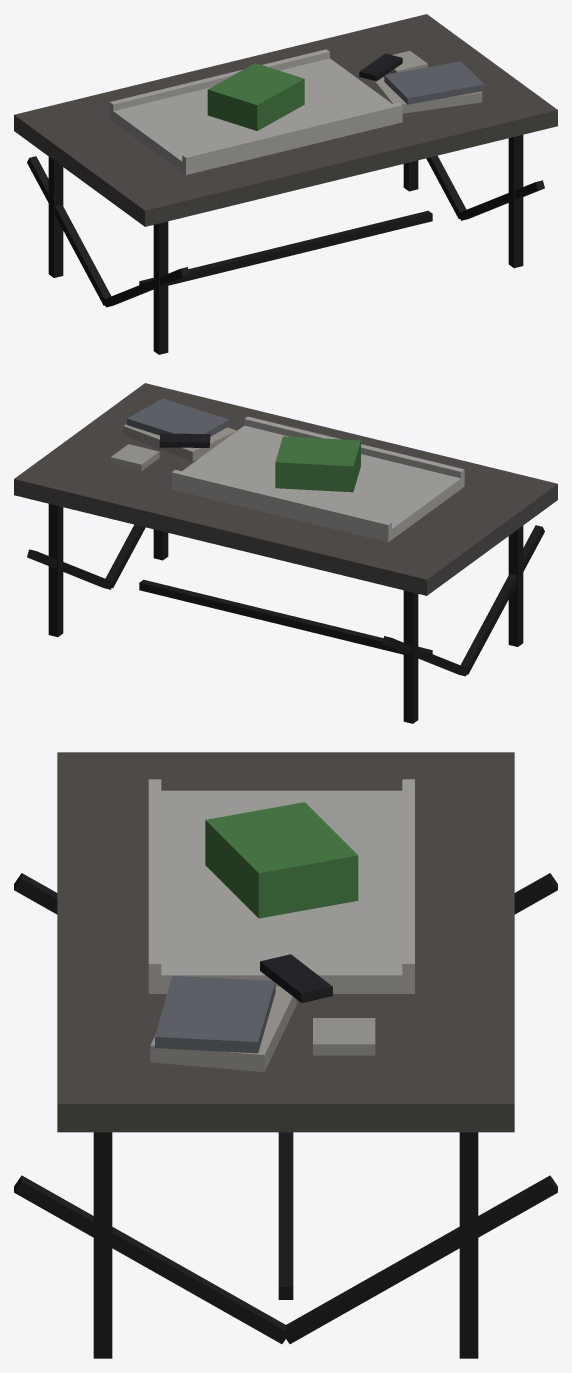
The model's file is coffee4.glb.
The picture shows the model from 3 angles, top to bottom: view 1: azimuth 30°, elevation 25°; view 2: azimuth 150°, elevation 25°; view 3: azimuth 270°, elevation 25°; orthographic projection. The views are drawn at different scales.
Visible parts, largest first — view 1: root; view 2: root; view 3: root.
Boxes of the visible parts, box(x1,y1,x2,y2) form: root: box(14, 14, 557, 354); root: box(14, 383, 557, 723); root: box(14, 752, 557, 1358).
Bounding box in the file's own units: 1.22 × 0.5486 × 0.7971.
